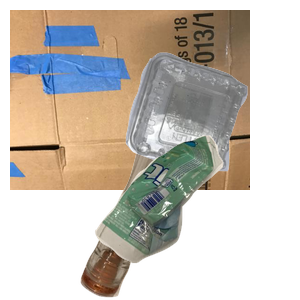cardboard: (10, 10, 250, 190)
glass: (78, 128, 298, 300)
plastic: (123, 50, 300, 214)
trash: (92, 133, 300, 300)
